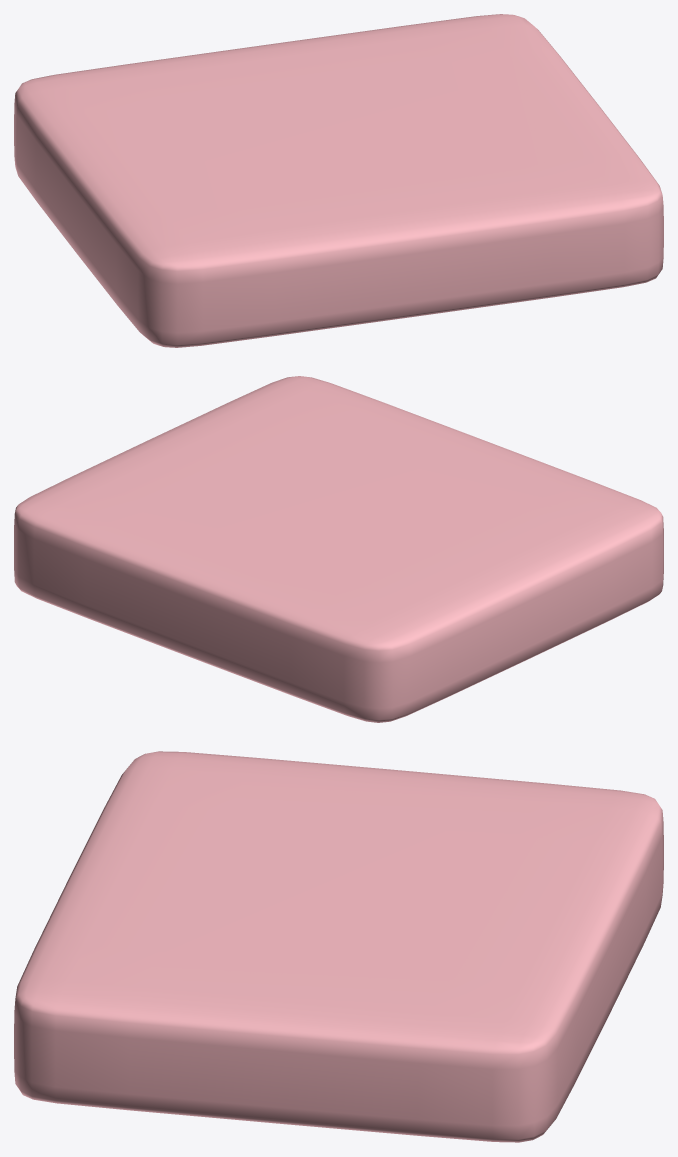
Rendered from PROP_Sandbox_v2.glb.
The picture shows the model from 3 angles, top to bottom: view 1: azimuth 30°, elevation 25°; view 2: azimuth 150°, elevation 25°; view 3: azimuth 270°, elevation 25°; orthographic projection. The views are drawn at different scales.
Visible parts, largest first — view 1: PROP_Sandbox_v2; view 2: PROP_Sandbox_v2; view 3: PROP_Sandbox_v2.
Part boxes in pixels (x1,y1,x2,y2): PROP_Sandbox_v2: (14,14,663,347); PROP_Sandbox_v2: (14,376,663,722); PROP_Sandbox_v2: (14,751,663,1142).
Bounding box in the file's own units: 1.41 × 0.2316 × 1.29.
